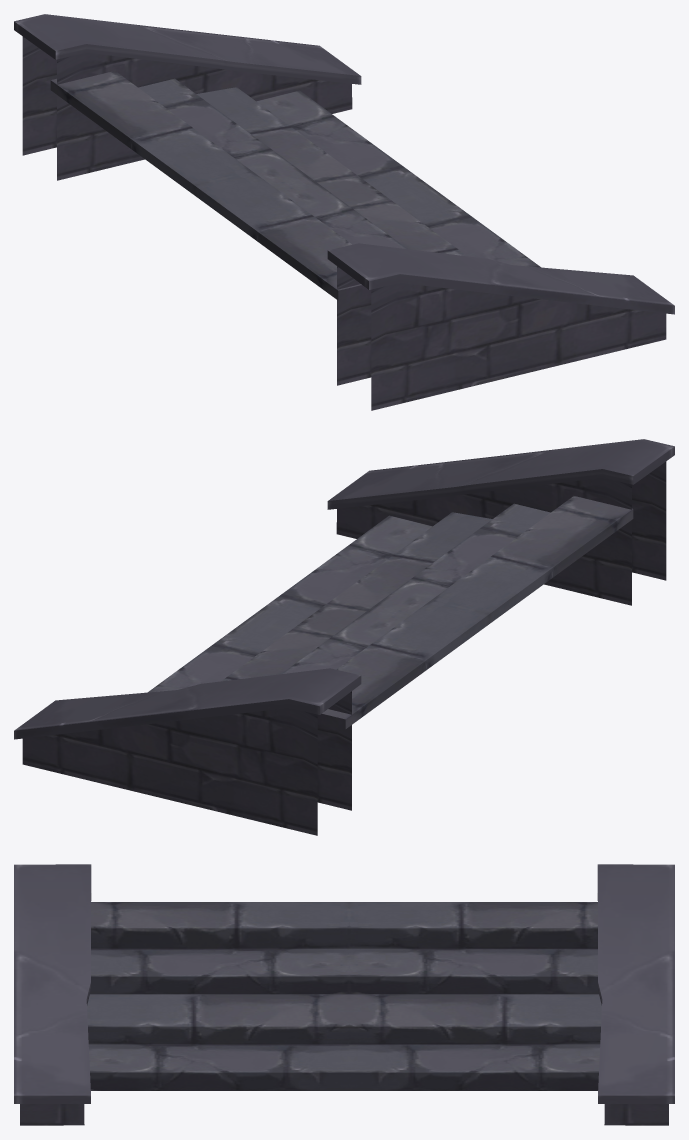
File: Beidaying_bosstaijie01.FBX
3 views of the same model, one above another, from view 1: azimuth 30°, elevation 25°; view 2: azimuth 150°, elevation 25°; view 3: azimuth 270°, elevation 25° (orthographic). The views are drawn at different scales.
Parts seen in each view (by area): view 1: Beidaying_bosstaijie01; view 2: Beidaying_bosstaijie01; view 3: Beidaying_bosstaijie01.
Part boxes in pixels (x1,y1,x2,y2): Beidaying_bosstaijie01: (14,14,674,410); Beidaying_bosstaijie01: (14,439,674,835); Beidaying_bosstaijie01: (14,864,674,1125).
Bounding box in the file's own units: 107 × 216 × 45.04.
